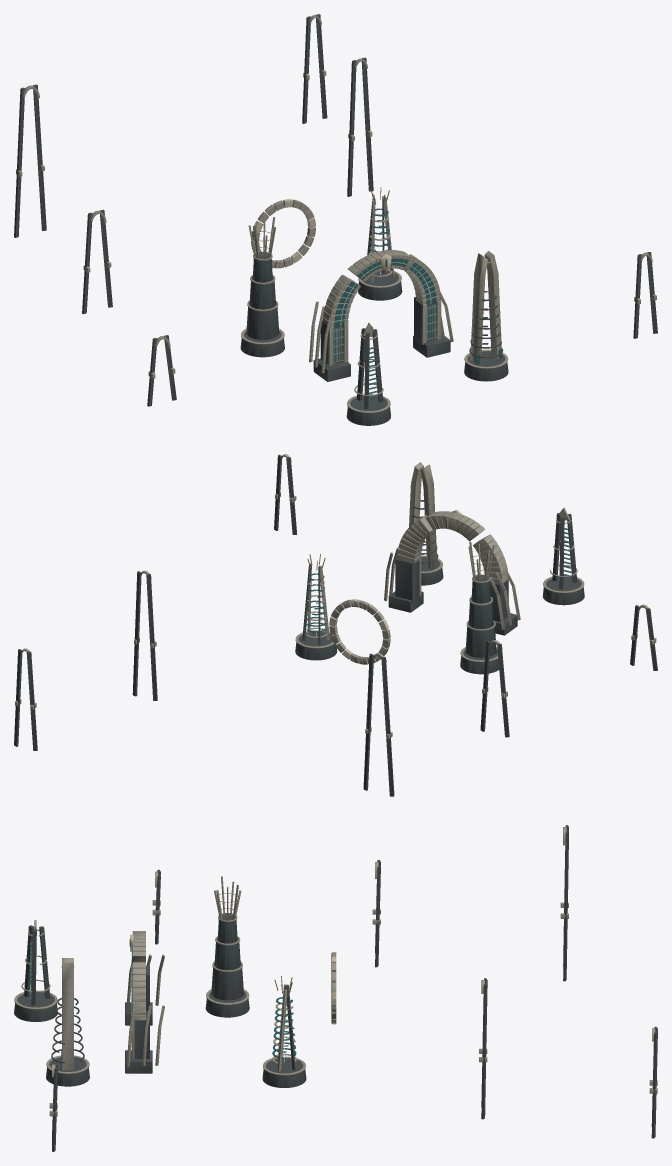
The model's file is architecture.glb.
3 renders of one model, top to bottom at view 1: azimuth 30°, elevation 25°; view 2: azimuth 150°, elevation 25°; view 3: azimuth 270°, elevation 25°, orthographic. The views are drawn at different scales.
Parts seen in each view (by area): view 1: DistantRemnants__Basalt, HeroArch__Limestone, WestCrown__Basalt, EastNeedle__Limestone, WestCarillon__Basalt, HeroArch__Basalt, HeroArch__Within_teal_ceramic, EastNeedle__Basalt, EastLantern__Basalt, DistantRemnants__Limestone, WestCrown__Limestone, HeroArch__Within_warm_ivory (+1 smaller); view 2: DistantRemnants__Basalt, HeroArch__Limestone, WestCrown__Basalt, HeroArch__Basalt, WestCarillon__Basalt, EastNeedle__Limestone, EastLantern__Basalt, EastLantern__Limestone, WestCrown__Limestone, EastNeedle__Basalt, DistantRemnants__Limestone; view 3: DistantRemnants__Basalt, WestCrown__Basalt, HeroArch__Limestone, WestCarillon__Basalt, EastNeedle__Limestone, HeroArch__Basalt, EastLantern__Basalt, EastNeedle__Basalt, WestCrown__Limestone, EastLantern__Limestone, DistantRemnants__Limestone.
Boxes of the visible parts, left/top/right/bottom form: DistantRemnants__Basalt: left=14, top=14, right=657, bottom=406; HeroArch__Limestone: left=309, top=250, right=453, bottom=373; WestCrown__Basalt: left=240, top=252, right=284, bottom=357; EastNeedle__Limestone: left=464, top=251, right=508, bottom=368; WestCarillon__Basalt: left=346, top=328, right=390, bottom=425; HeroArch__Basalt: left=313, top=297, right=450, bottom=381; HeroArch__Within_teal_ceramic: left=334, top=258, right=436, bottom=361; EastNeedle__Basalt: left=464, top=291, right=508, bottom=381; EastLantern__Basalt: left=358, top=196, right=402, bottom=300; DistantRemnants__Limestone: left=16, top=15, right=656, bottom=378; WestCrown__Limestone: left=241, top=214, right=284, bottom=344; HeroArch__Within_warm_ivory: left=334, top=254, right=435, bottom=361; DistantRemnants__Basalt: left=14, top=454, right=657, bottom=796; HeroArch__Limestone: left=384, top=511, right=520, bottom=629; WestCrown__Basalt: left=460, top=575, right=499, bottom=674; HeroArch__Basalt: left=388, top=557, right=517, bottom=635; WestCarillon__Basalt: left=542, top=513, right=584, bottom=605; EastNeedle__Limestone: left=409, top=462, right=442, bottom=573; EastLantern__Basalt: left=295, top=564, right=337, bottom=660; EastLantern__Limestone: left=295, top=563, right=333, bottom=648; WestCrown__Limestone: left=460, top=541, right=498, bottom=662; EastNeedle__Basalt: left=411, top=500, right=443, bottom=585; DistantRemnants__Limestone: left=15, top=454, right=656, bottom=739; DistantRemnants__Basalt: left=52, top=825, right=657, bottom=1151; WestCrown__Basalt: left=205, top=913, right=249, bottom=1017; HeroArch__Limestone: left=126, top=931, right=164, bottom=1066; WestCarillon__Basalt: left=14, top=925, right=57, bottom=1021; EastNeedle__Limestone: left=46, top=958, right=89, bottom=1073; HeroArch__Basalt: left=125, top=966, right=152, bottom=1073; EastLantern__Basalt: left=262, top=984, right=306, bottom=1087; EastNeedle__Basalt: left=46, top=998, right=89, bottom=1086; WestCrown__Limestone: left=206, top=876, right=249, bottom=1004; EastLantern__Limestone: left=263, top=984, right=305, bottom=1075; DistantRemnants__Limestone: left=49, top=827, right=657, bottom=1116.
Bounding box in the file's own units: 148 × 46.85 × 181.
6 materials, 2 textured.
